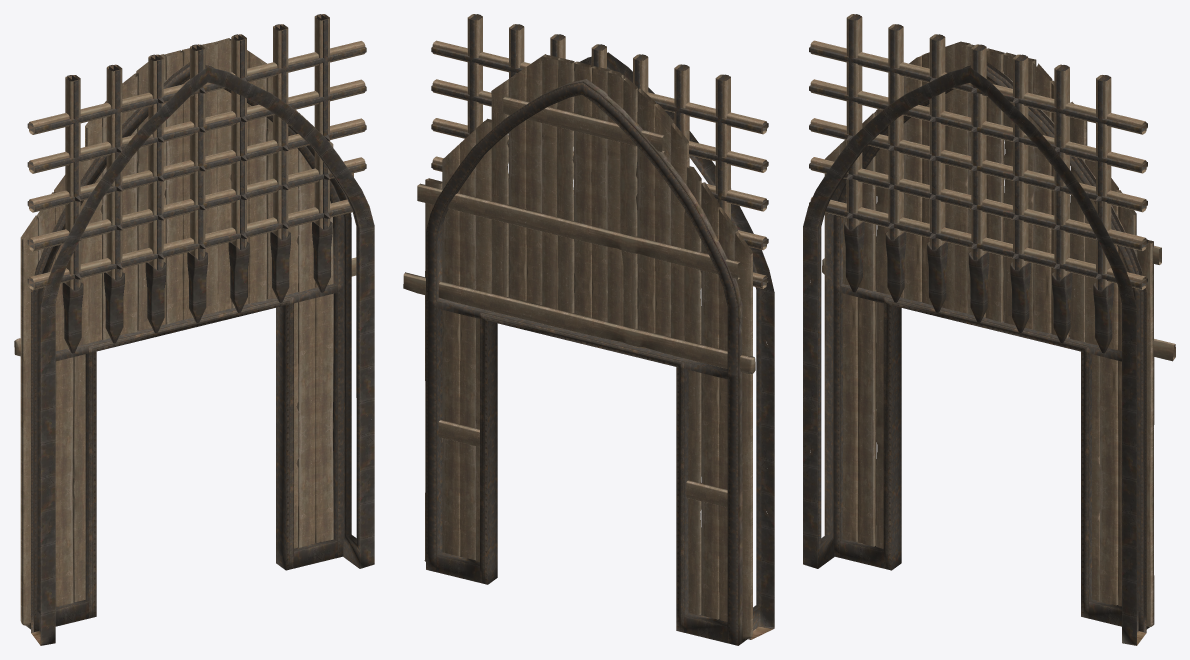
The picture shows the model from 3 angles, left to right: view 1: azimuth 30°, elevation 25°; view 2: azimuth 150°, elevation 25°; view 3: azimuth 330°, elevation 25°; orthographic projection.
Parts seen in each view (by area): view 1: SM_Dowdun_Wall_Arch_8x10_Doorway_01_LOD0; view 2: SM_Dowdun_Wall_Arch_8x10_Doorway_01_LOD0; view 3: SM_Dowdun_Wall_Arch_8x10_Doorway_01_LOD0.
Boxes of the visible parts, x1,y1,x2,y2 form: SM_Dowdun_Wall_Arch_8x10_Doorway_01_LOD0: (14, 14, 374, 645); SM_Dowdun_Wall_Arch_8x10_Doorway_01_LOD0: (403, 14, 774, 645); SM_Dowdun_Wall_Arch_8x10_Doorway_01_LOD0: (803, 14, 1175, 645).
Size of the model in its own units: 5.59 by 8.37 by 0.7248.
3 materials, 3 textured.
